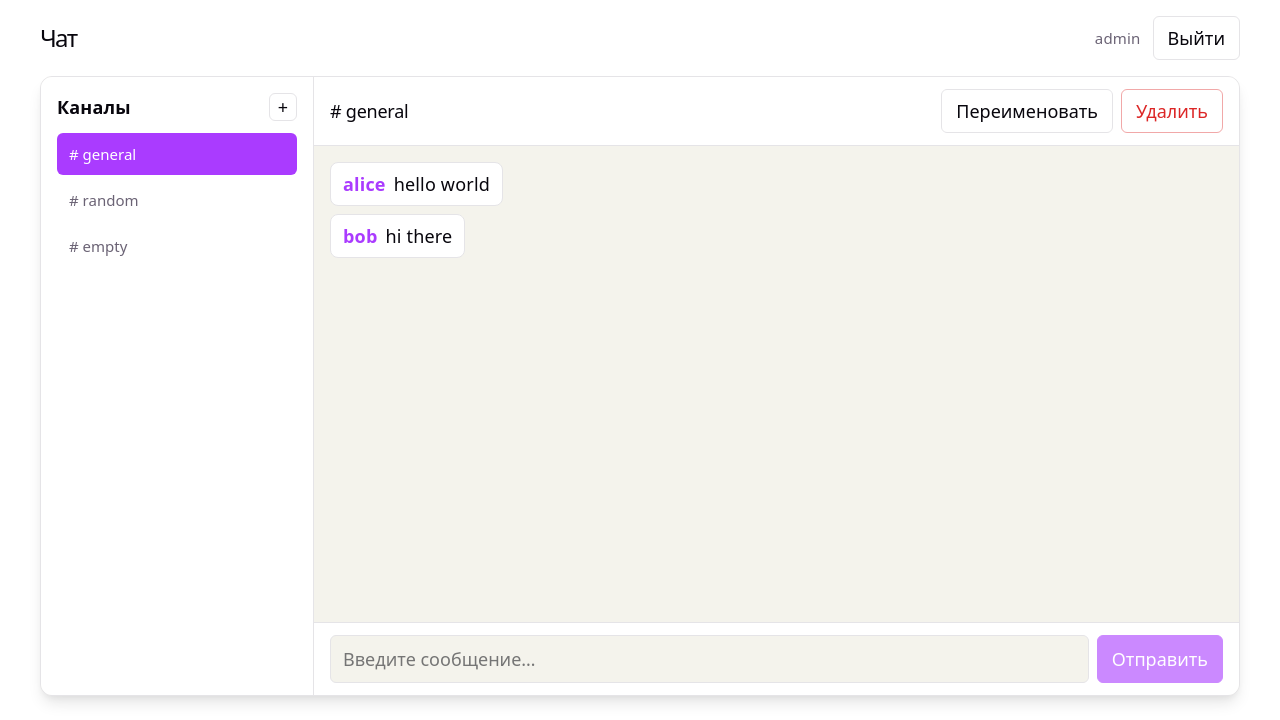
Test: ChatWindow › channels and selection › switches the message panel when another channel is selected
The image size is (1280, 720).
Expected: the heading "# general" is shown, 330,100 -> 408,122
Click the button "# random".
click(177, 200)  # box 57,179 -> 297,221
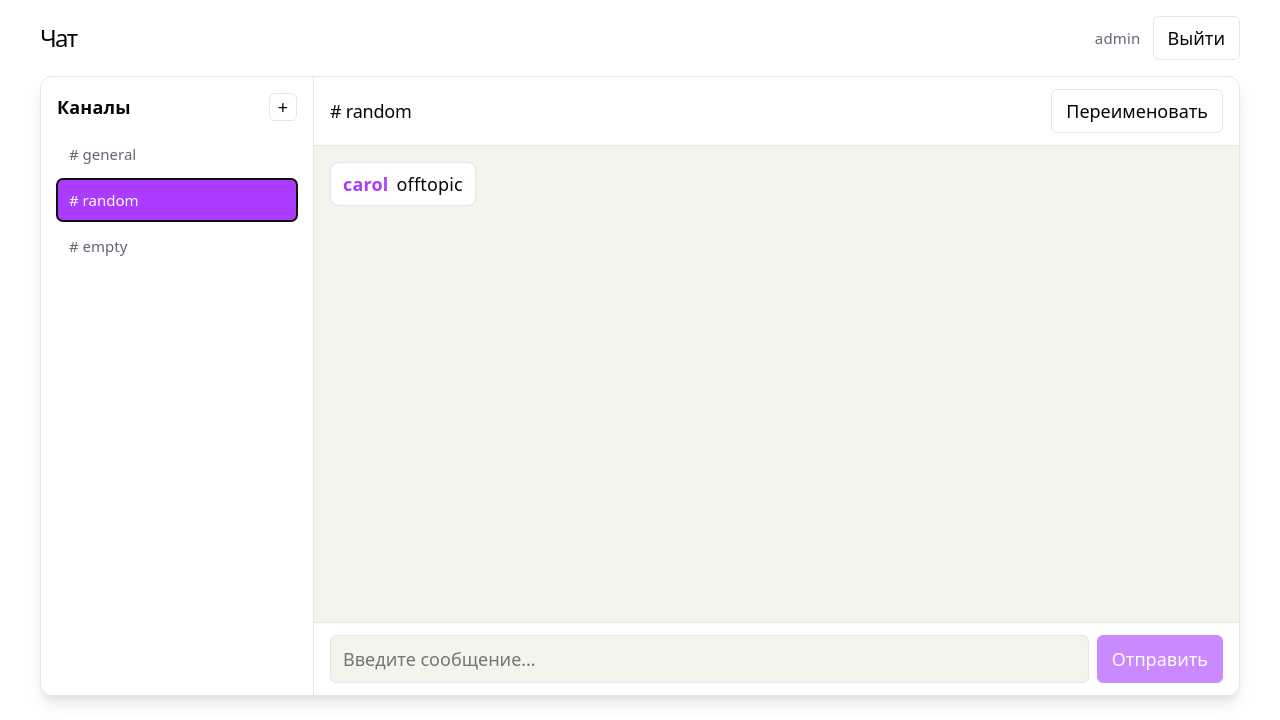
Expected: the heading "# random" is shown, 330,100 -> 412,122
Expected: the text "offtopic" is shown, 396,172 -> 463,196
Expected: the text "hello world" is gone
